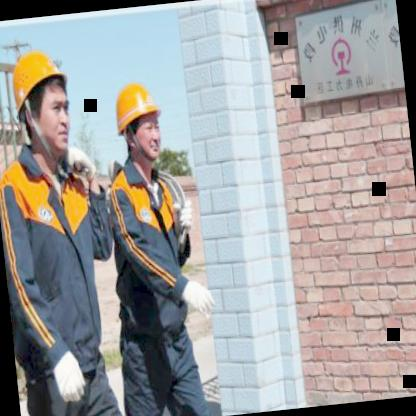helmet: (0, 28, 85, 164), (106, 70, 169, 172)
